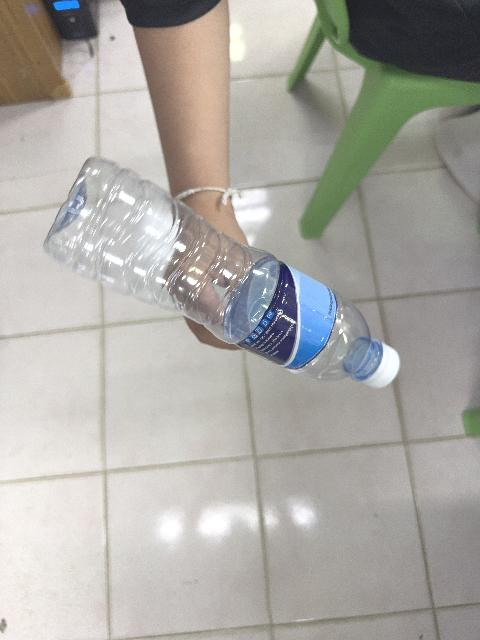bottle: (44, 158, 399, 387)
